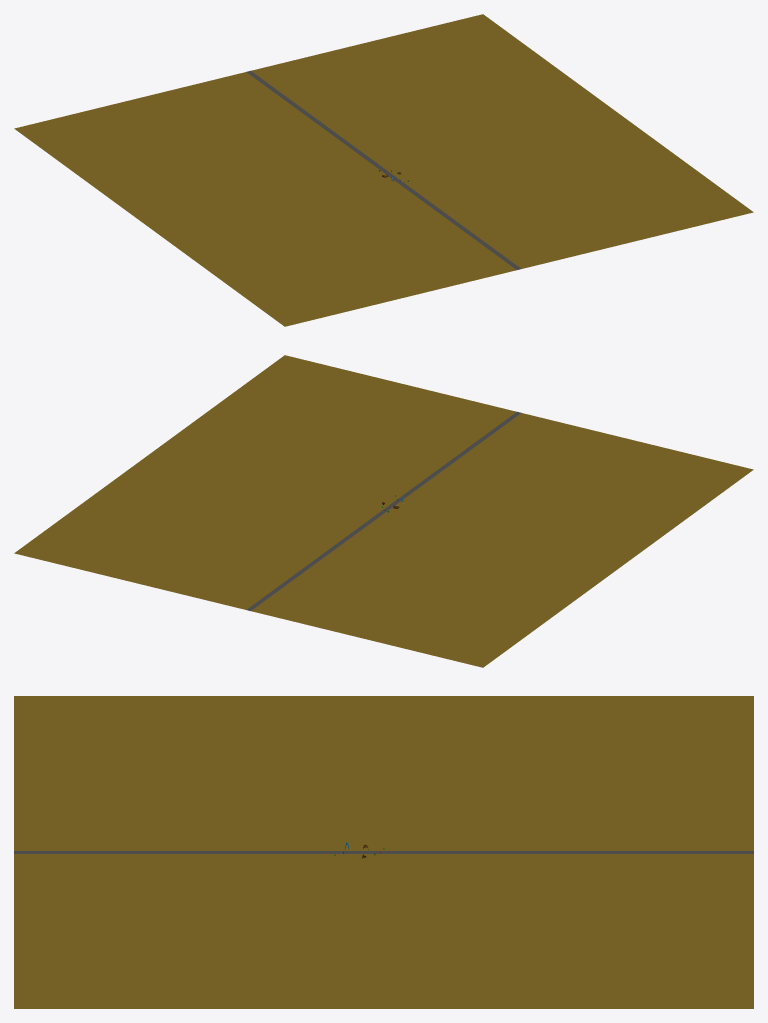
File: desertmap.obj
3 views of the same model, one above another, from view 1: azimuth 30°, elevation 25°; view 2: azimuth 150°, elevation 25°; view 3: azimuth 270°, elevation 25° (orthographic). The views are drawn at different scales.
Visible parts, largest first — view 1: Plane, Cube_Cube.002; view 2: Plane, Cube_Cube.002; view 3: Plane, Cube_Cube.002.
Part boxes in pixels (x1,y1,x2,y2): Plane: (14, 14, 753, 326); Cube_Cube.002: (246, 70, 520, 269); Plane: (14, 355, 753, 667); Cube_Cube.002: (247, 411, 521, 610); Plane: (14, 696, 753, 1008); Cube_Cube.002: (14, 851, 753, 853).
Size of the model in its own units: 2000 by 19.11 by 2000.
